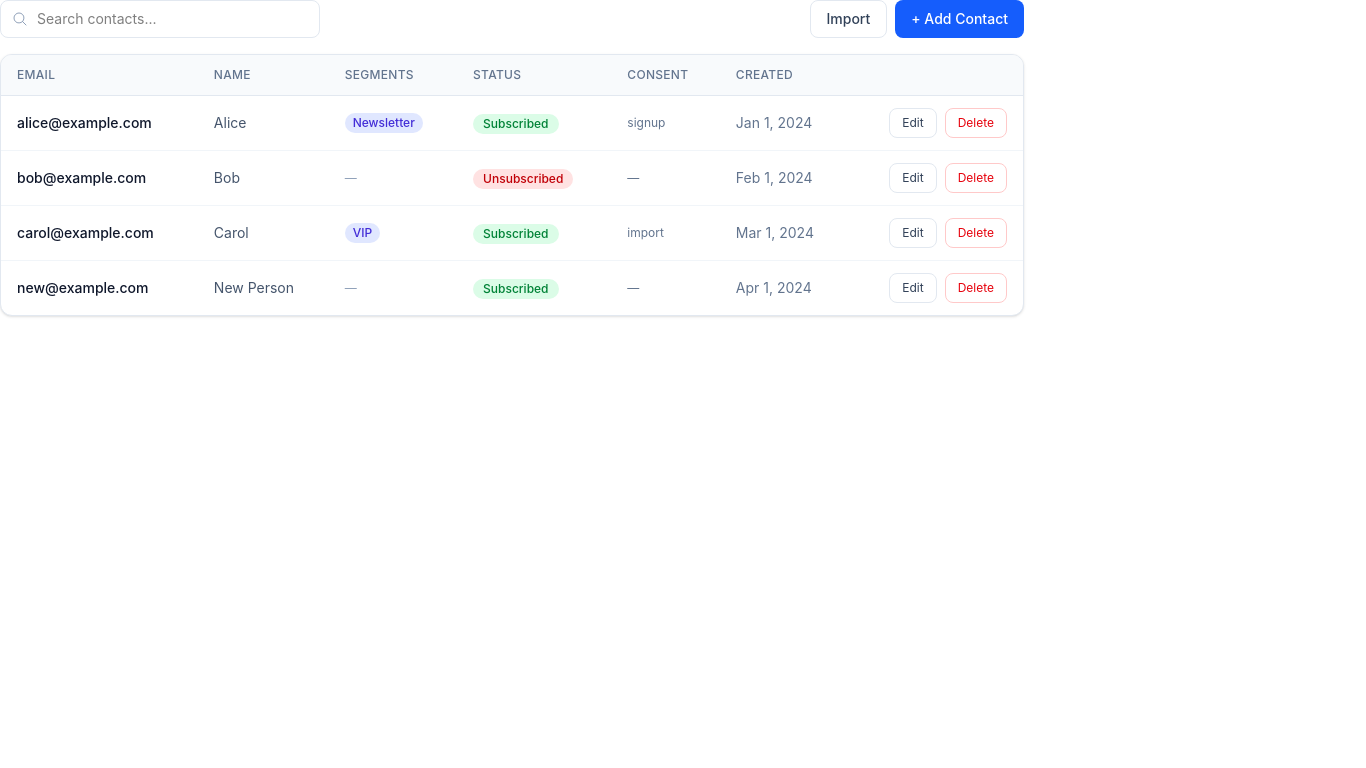
Test: ContactsView › import contacts shows import modal
Step 1. Click the button "Import" → [848, 19], box [810,0,887,38]
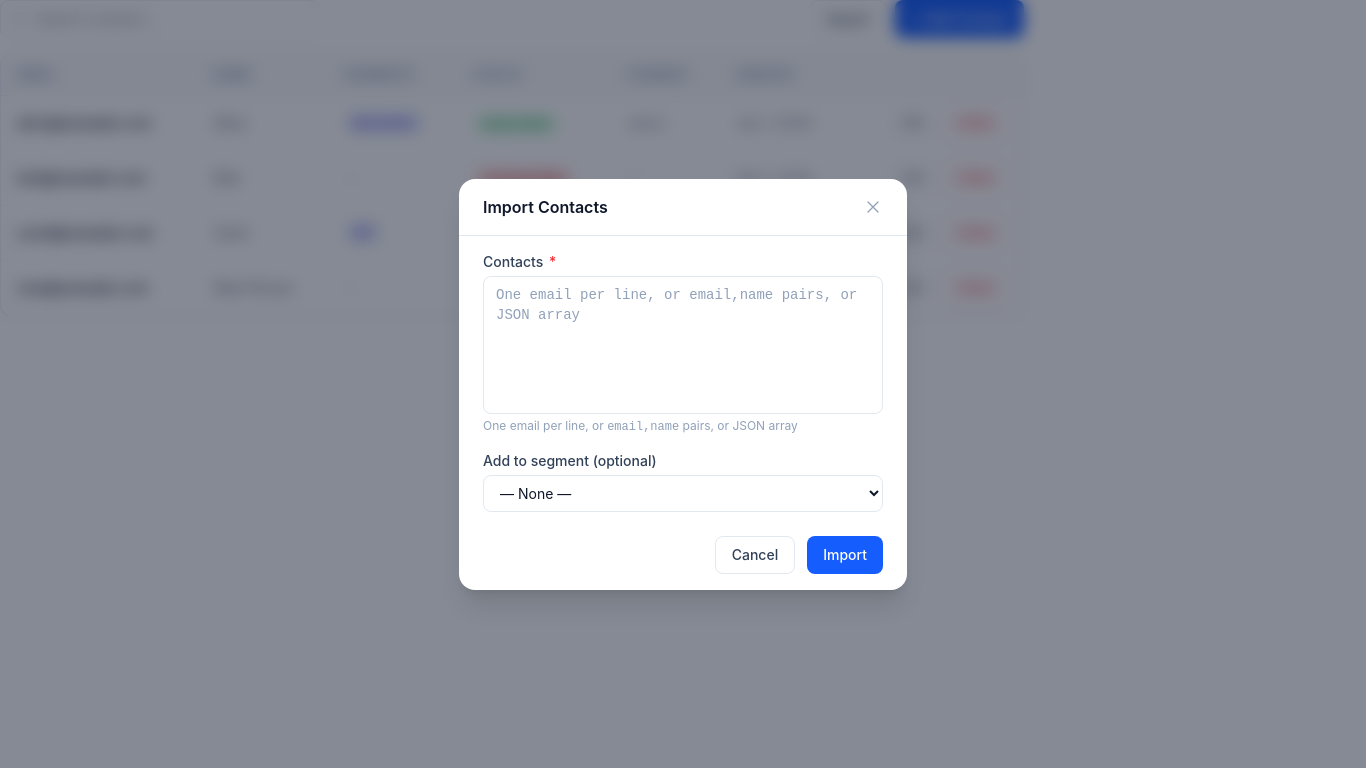
Expected: the text "Import Contacts" is shown, [483,194,608,218]
